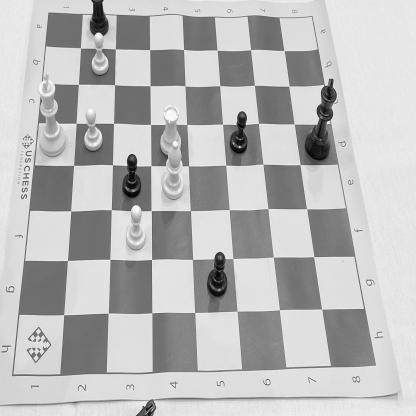bishop: (160, 140, 187, 202)
king: (35, 69, 70, 161), (303, 75, 339, 161)
pawn: (122, 203, 148, 252), (206, 248, 230, 300), (82, 104, 106, 154), (120, 151, 144, 199), (89, 30, 110, 78), (229, 107, 249, 156)
rook: (161, 103, 183, 158), (85, 0, 111, 38)
